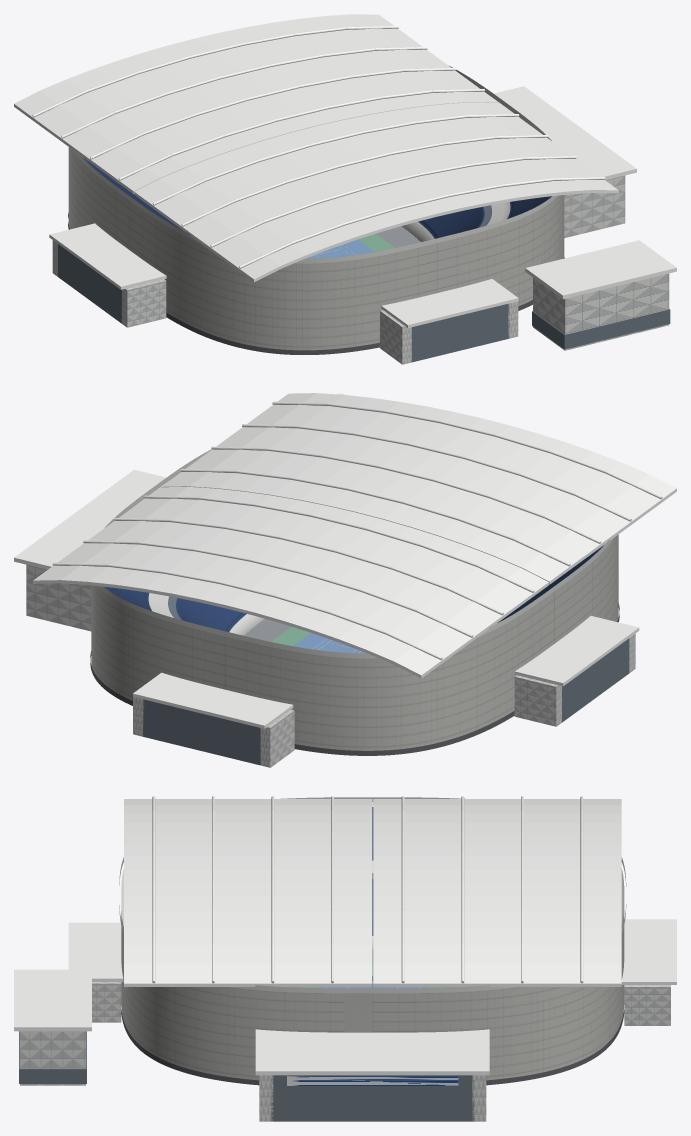
File: ao_closed.glb
3 views of the same model, one above another, from view 1: azimuth 30°, elevation 25°; view 2: azimuth 150°, elevation 25°; view 3: azimuth 270°, elevation 25° (orthographic). The views are drawn at different scales.
Visible parts, largest first — view 1: RoofS, RoofN, Facade, PlayerPod, PlayerPodRoof, AnnexRoof, PodWRoof, PodS, PodSRoof, Bowl, AnnexFlankS, RimBand (+7 smaller); view 2: RoofN, RoofS, Facade, PodN, AnnexRoof, PodNRoof, PodWRoof, Bowl, AnnexFlankN, RimBand, PodW, PodWFlankN (+4 smaller); view 3: RoofN, RoofS, Facade, AnnexRoof, AnnexGlass, PlayerPodRoof, PodNRoof, PodSRoof, PlayerPod, RimBand, PodNFlankE, AnnexSign (+6 smaller).
Part boxes in pixels (x1,y1,x2,y2): RoofS: [134, 102, 618, 282]; RoofN: [14, 14, 498, 194]; Facade: [68, 147, 564, 350]; PlayerPod: [533, 273, 669, 350]; PlayerPodRoof: [525, 240, 676, 299]; AnnexRoof: [493, 86, 636, 180]; PodWRoof: [49, 223, 166, 289]; PodS: [411, 303, 509, 362]; PodSRoof: [381, 279, 518, 327]; Bowl: [82, 157, 551, 241]; AnnexFlankS: [564, 175, 625, 237]; RimBand: [73, 66, 557, 263]; RoofN: [33, 486, 548, 678]; RoofS: [161, 393, 676, 584]; Facade: [91, 534, 618, 750]; PodN: [143, 699, 260, 765]; AnnexRoof: [14, 469, 165, 569]; PodNRoof: [133, 672, 293, 728]; PodWRoof: [514, 616, 639, 686]; Bowl: [104, 544, 604, 635]; AnnexFlankN: [26, 564, 91, 631]; RimBand: [98, 449, 613, 658]; PodW: [562, 638, 629, 722]; PodWFlankN: [514, 675, 561, 726]; RoofN: [373, 799, 621, 986]; RoofS: [124, 799, 372, 986]; Facade: [121, 910, 624, 1080]; AnnexRoof: [255, 1029, 489, 1075]; AnnexGlass: [271, 1075, 474, 1121]; PlayerPodRoof: [14, 969, 91, 1031]; PodNRoof: [621, 919, 676, 984]; PodSRoof: [68, 922, 123, 981]; PlayerPod: [20, 1031, 85, 1085]; RimBand: [119, 797, 626, 993]; PodNFlankE: [624, 985, 670, 1025]; AnnexSign: [287, 1076, 458, 1085].
Bounding box in the file's own units: 152 × 35.69 × 170.
Materials: 11 (4 with a texture image).
